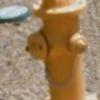a fire hydrant: (26, 0, 90, 100)
